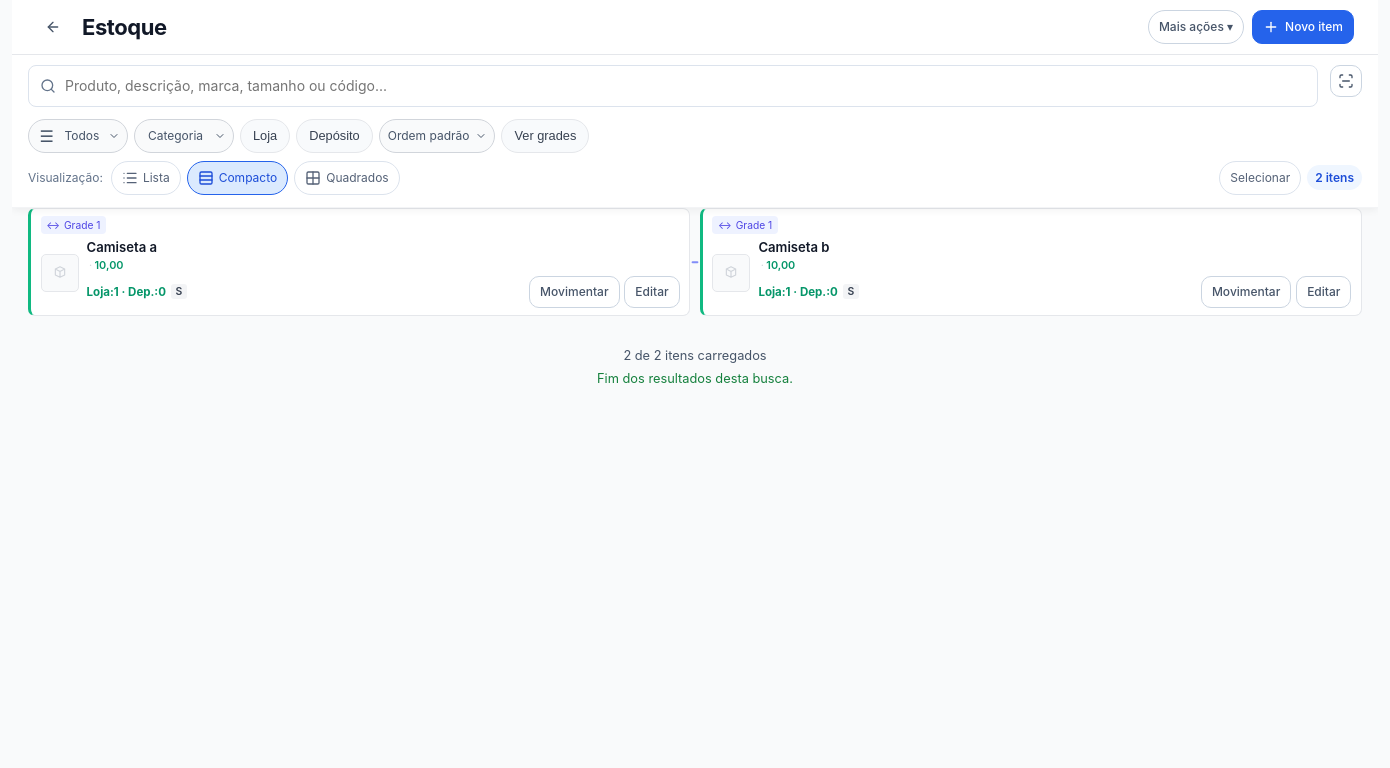
counts distinct selected grades and stock without counting contextual unselected sizes
What coordinates should you click on to do the following:
click the button "Selecionar"
I would click on:
 (1260, 178)
Its box is [1219,161,1301,195].
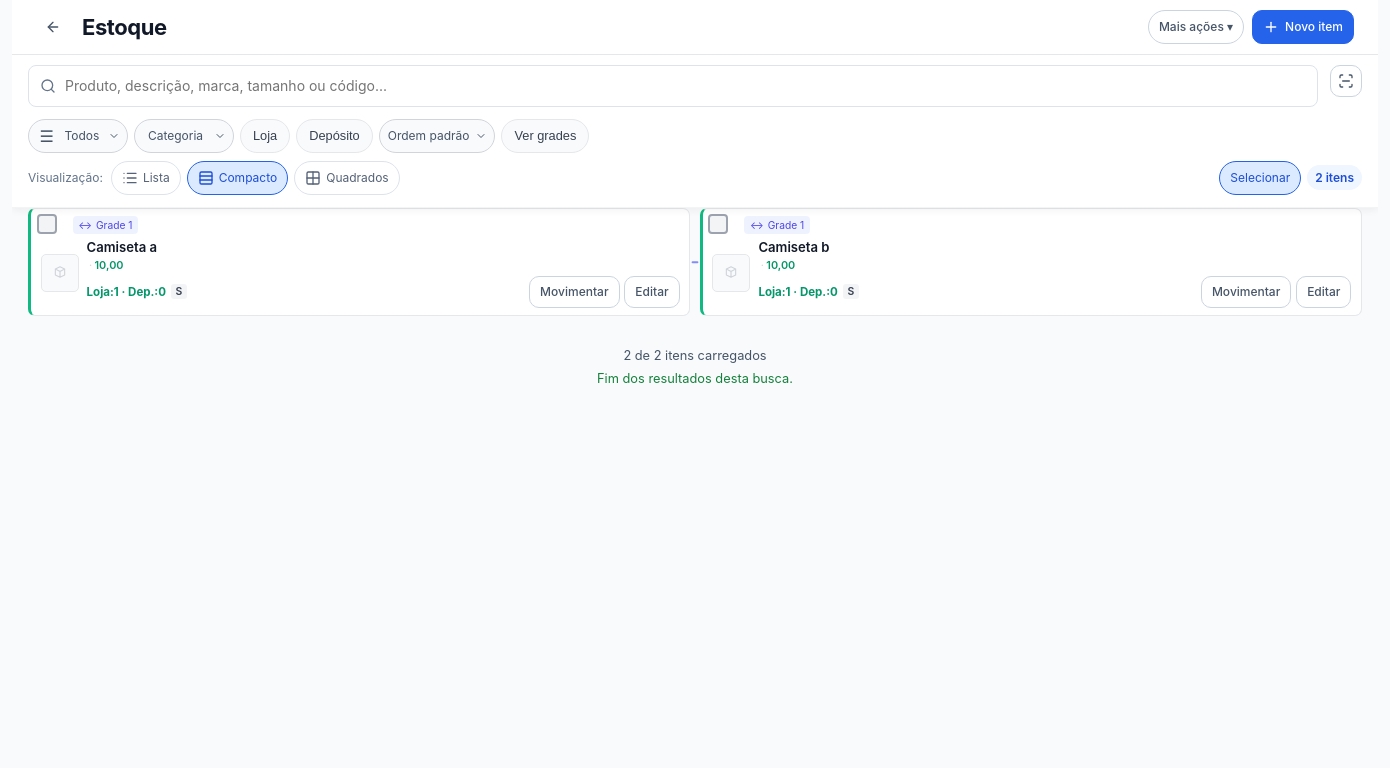
What coordinates should you click on to do the following:
click the 1st element with class "item-card"
I would click on:
 (359, 262)
Its box is [28,208,690,316].
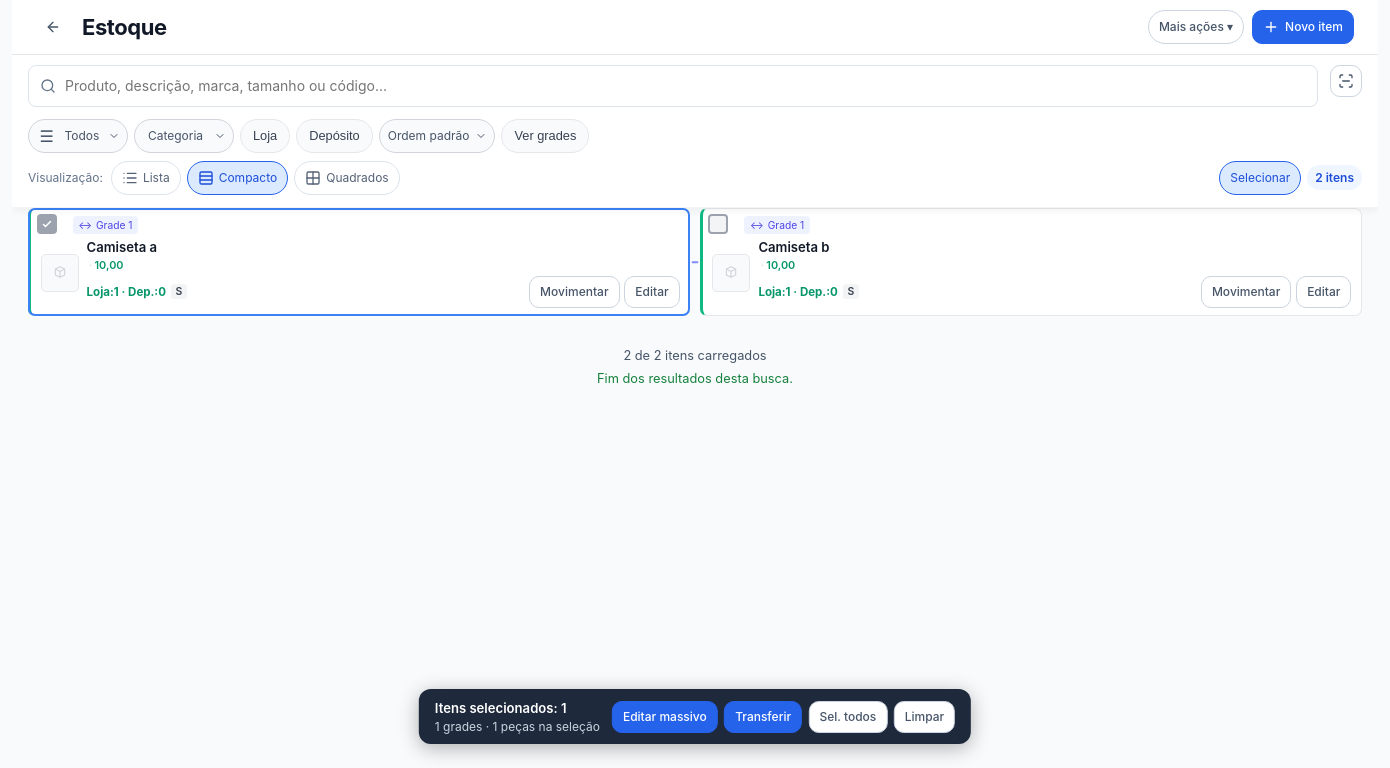
Check: the text with class "sel-stock-summary" reads "1 grades · 1 peças na seleção", box [435,719,600,734]
